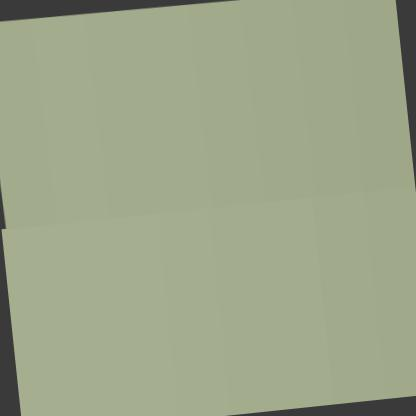Person: (0, 0, 364, 231)
